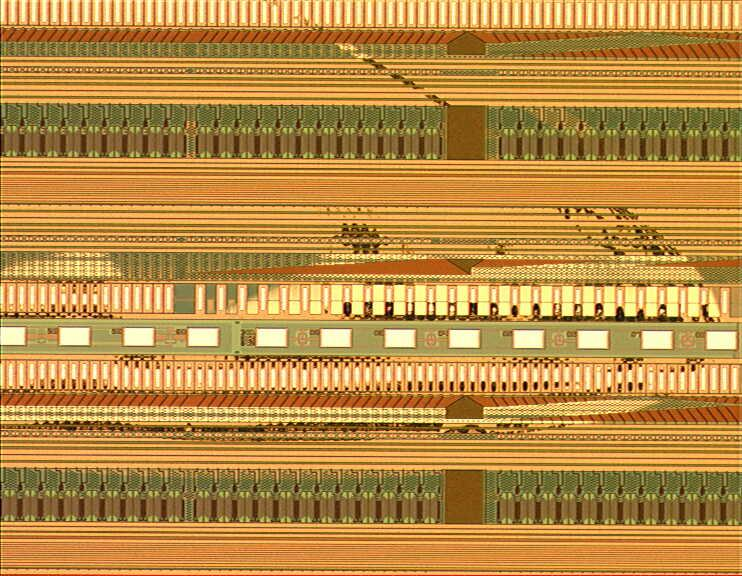COATING BAD: (1, 1, 742, 439)
